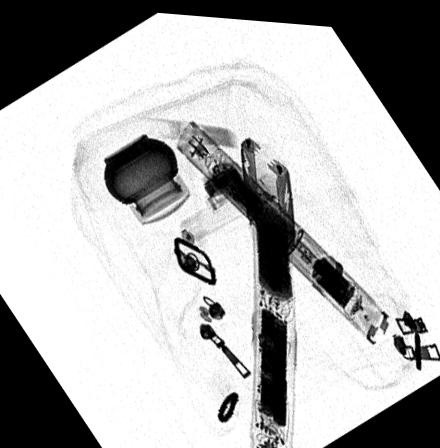Baton: (175, 115, 391, 339), (238, 131, 299, 448)
